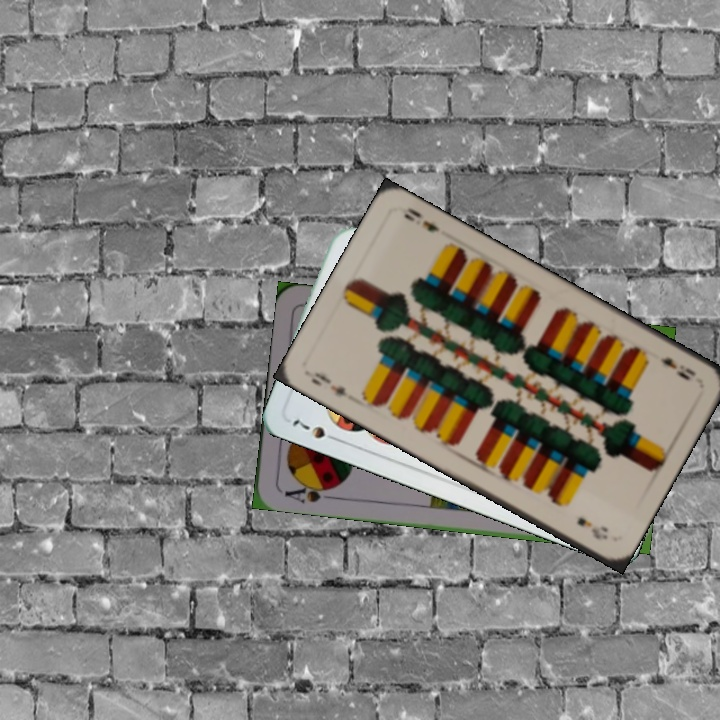E9: (307, 368, 350, 399), (656, 353, 699, 383)
S7: (287, 413, 343, 445)
SA: (280, 478, 339, 506)
